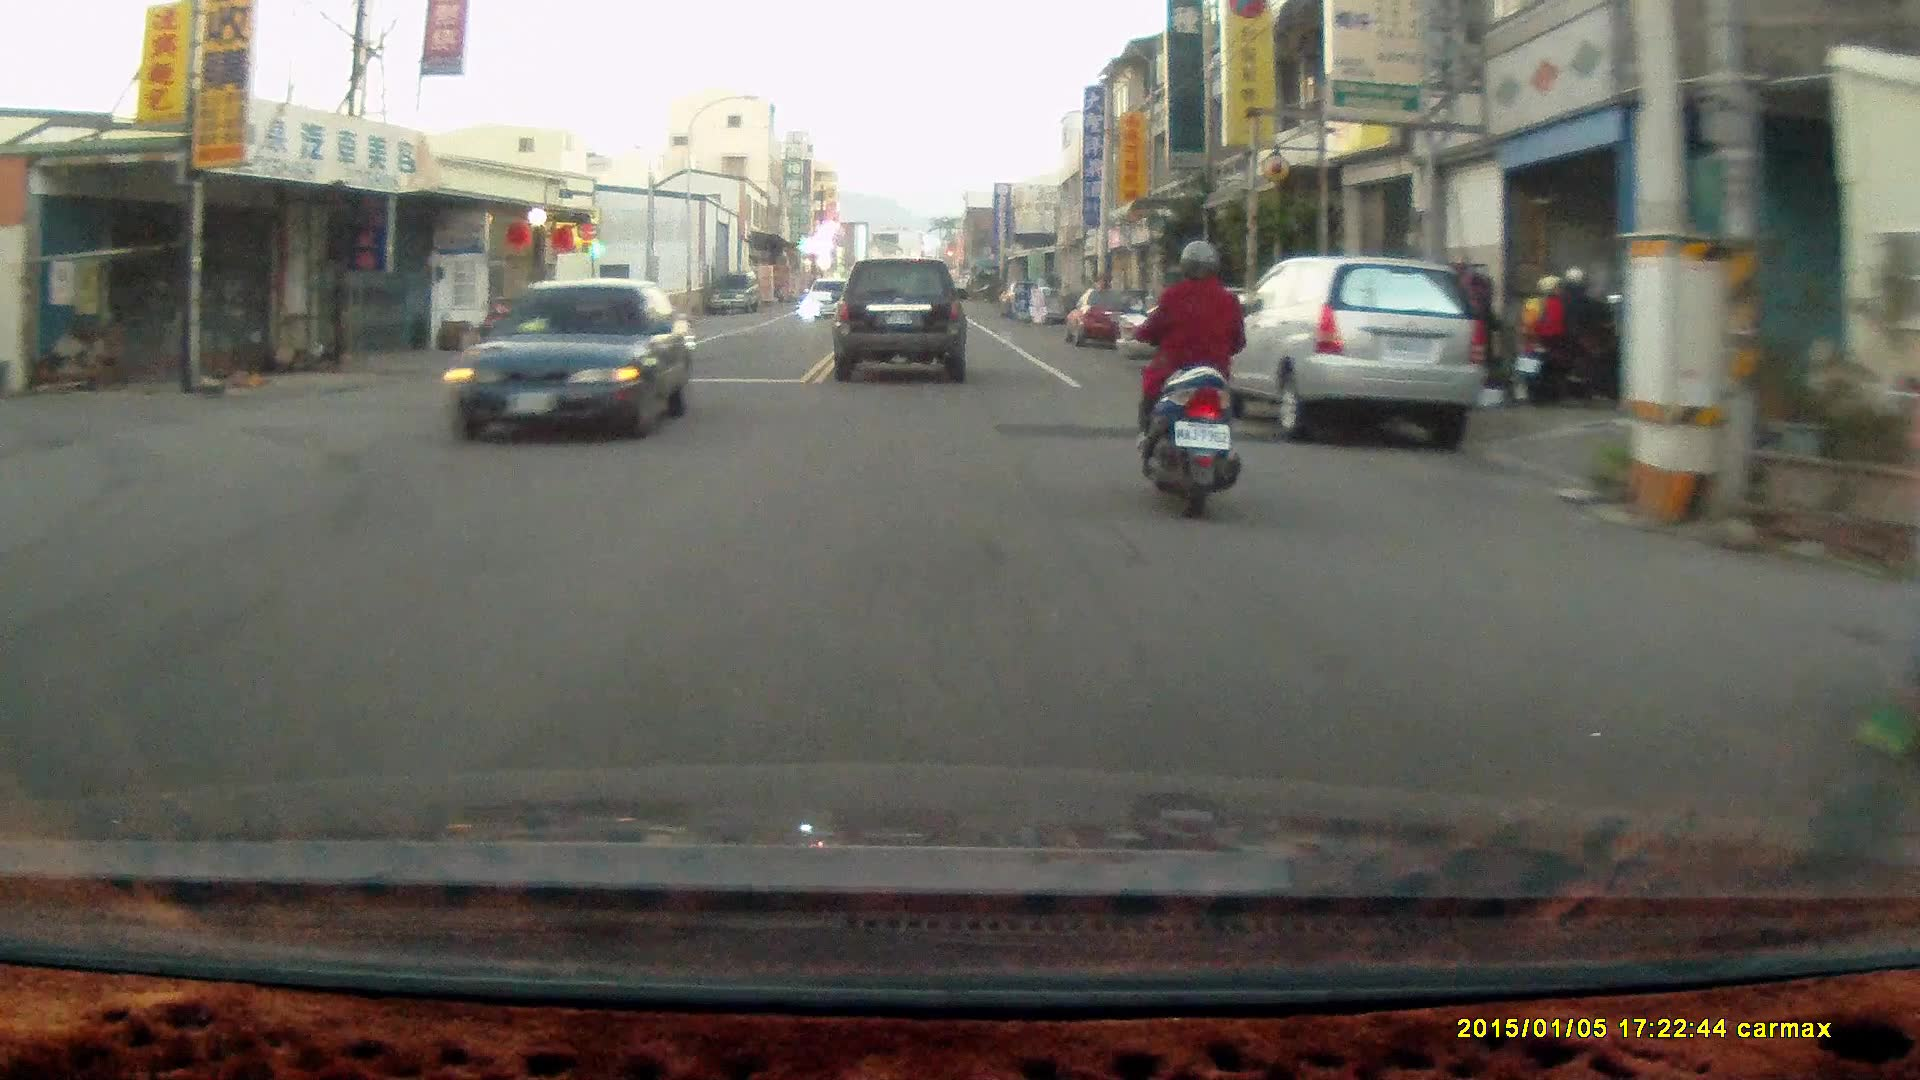rider: (1127, 237, 1243, 520), (1517, 257, 1611, 405)
vehicle: (1211, 260, 1482, 449), (447, 279, 695, 447), (831, 259, 970, 387), (1066, 288, 1144, 349)
